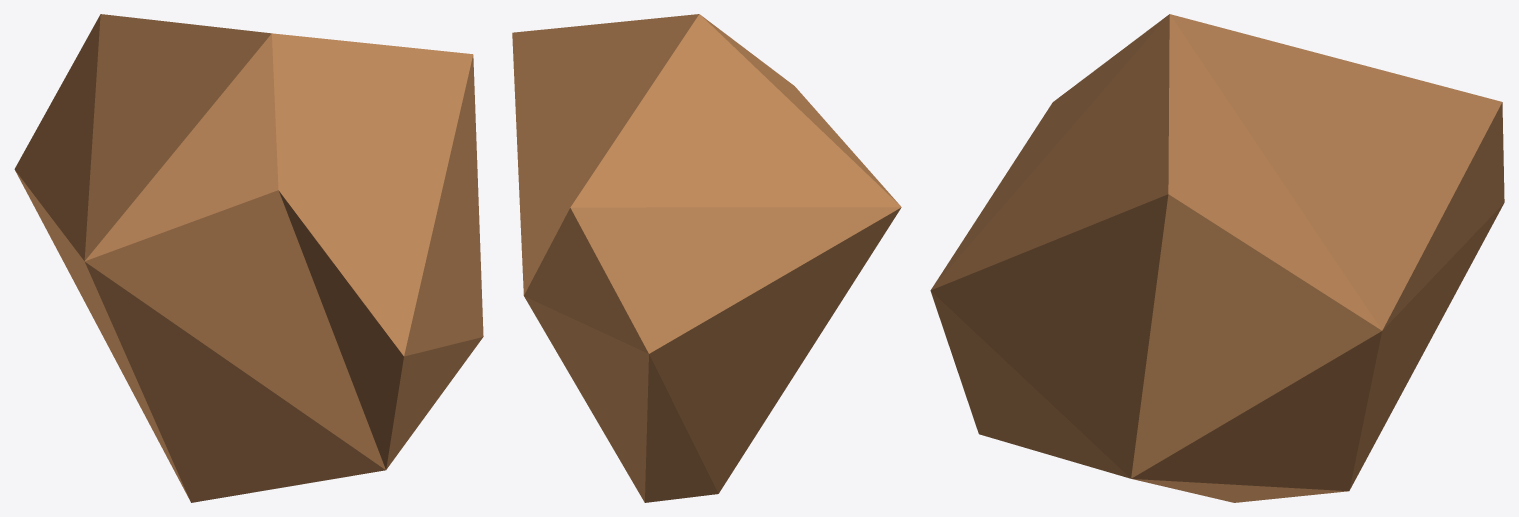
Rendered from asteroid.glb.
3 renders of one model, left to right at view 1: azimuth 30°, elevation 25°; view 2: azimuth 150°, elevation 25°; view 3: azimuth 270°, elevation 25°, orthographic. The views are drawn at different scales.
Visible parts, largest first — view 1: Asteriod; view 2: Asteriod; view 3: Asteriod.
Part boxes in pixels (box(x1,y1,x2,y2)): Asteriod: box(14, 14, 483, 502); Asteriod: box(512, 14, 901, 502); Asteriod: box(930, 14, 1504, 502).
Size of the model in its own units: 2.04 by 2.32 by 2.35.
